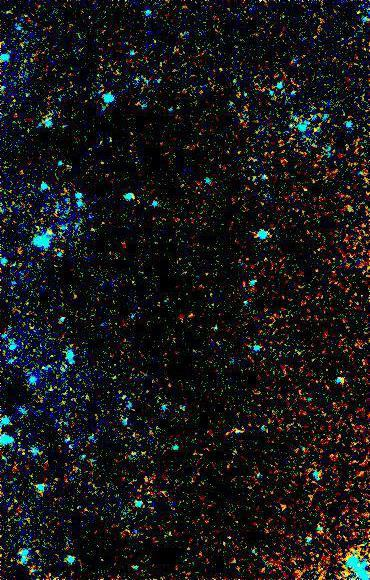star: (171, 303, 201, 333)
